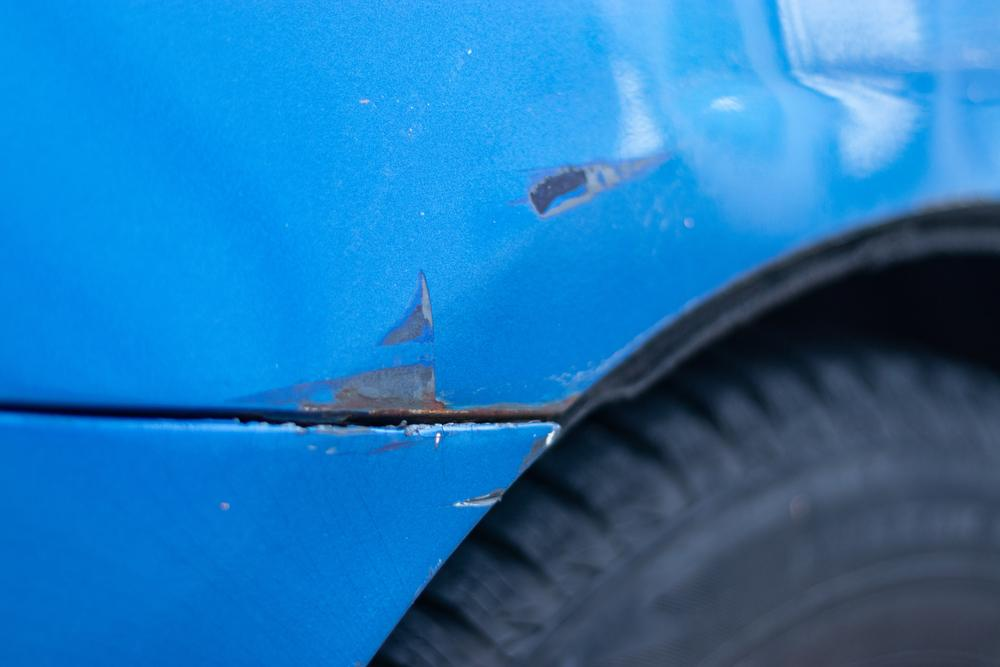scratch: (252, 258, 553, 426), (513, 147, 689, 222)
